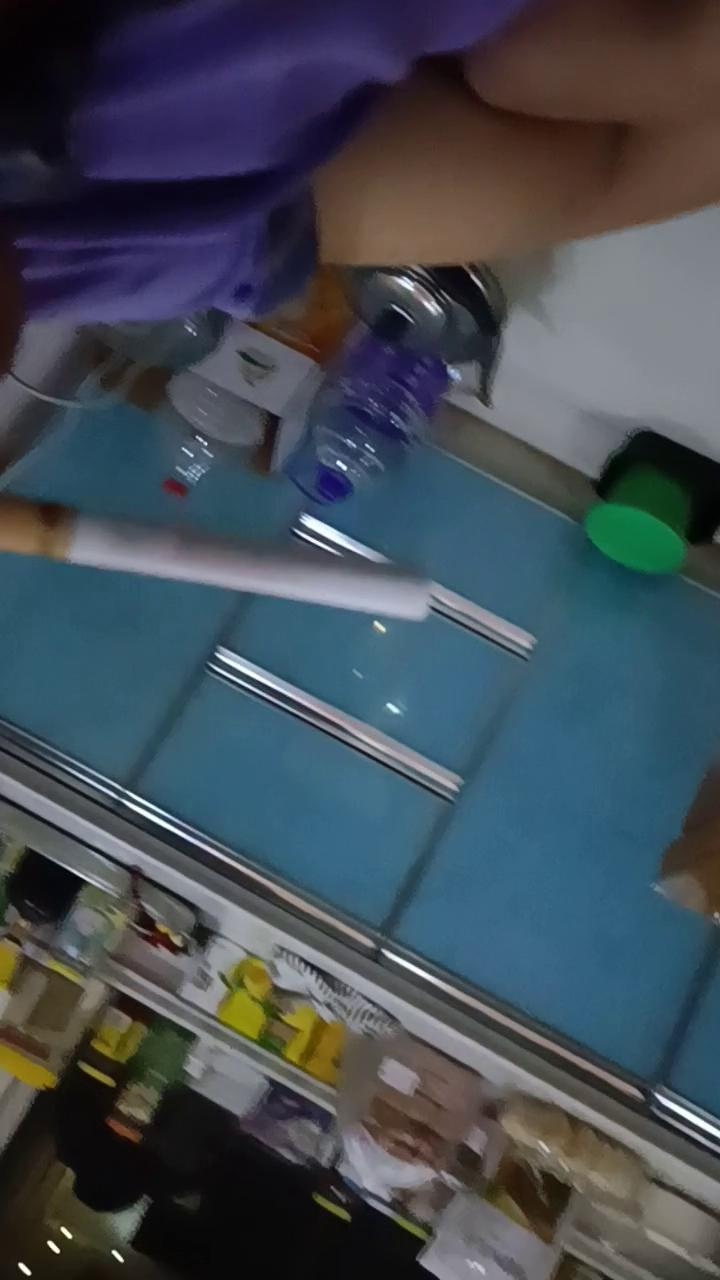smoke: (0, 492, 434, 623)
